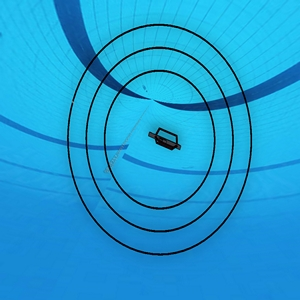circel: (66, 16, 256, 263)
submarine: (147, 127, 182, 151)
